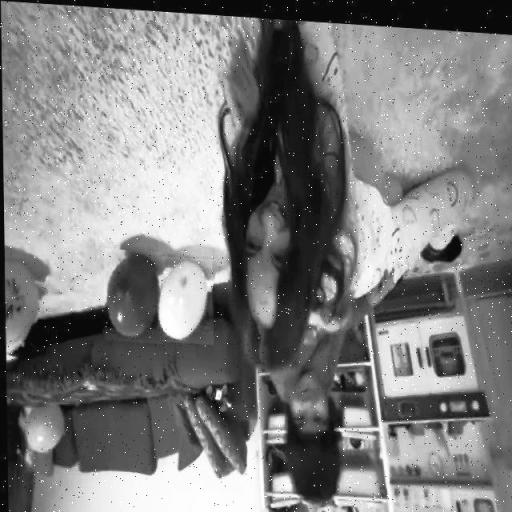balloon: (102, 246, 161, 341), (152, 252, 212, 342), (3, 257, 43, 359)
